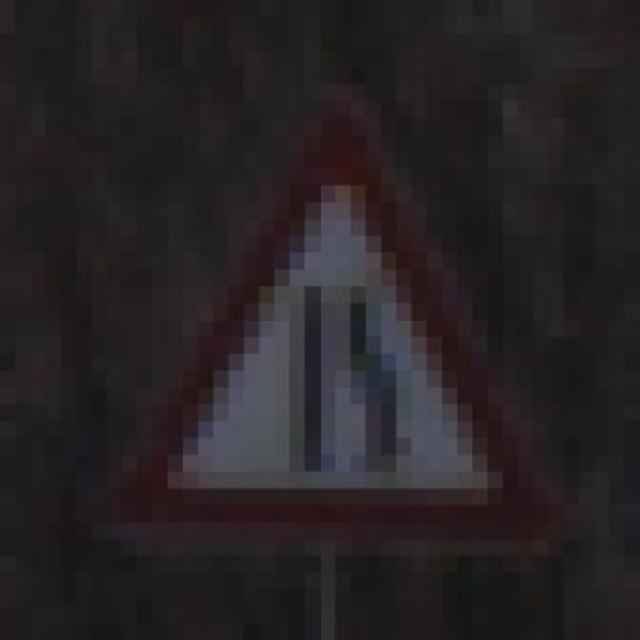-Road narrows on right: (73, 91, 592, 546)
